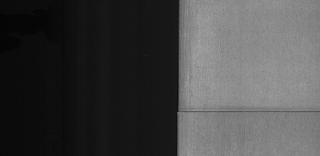welding line: (174, 108, 320, 116)
